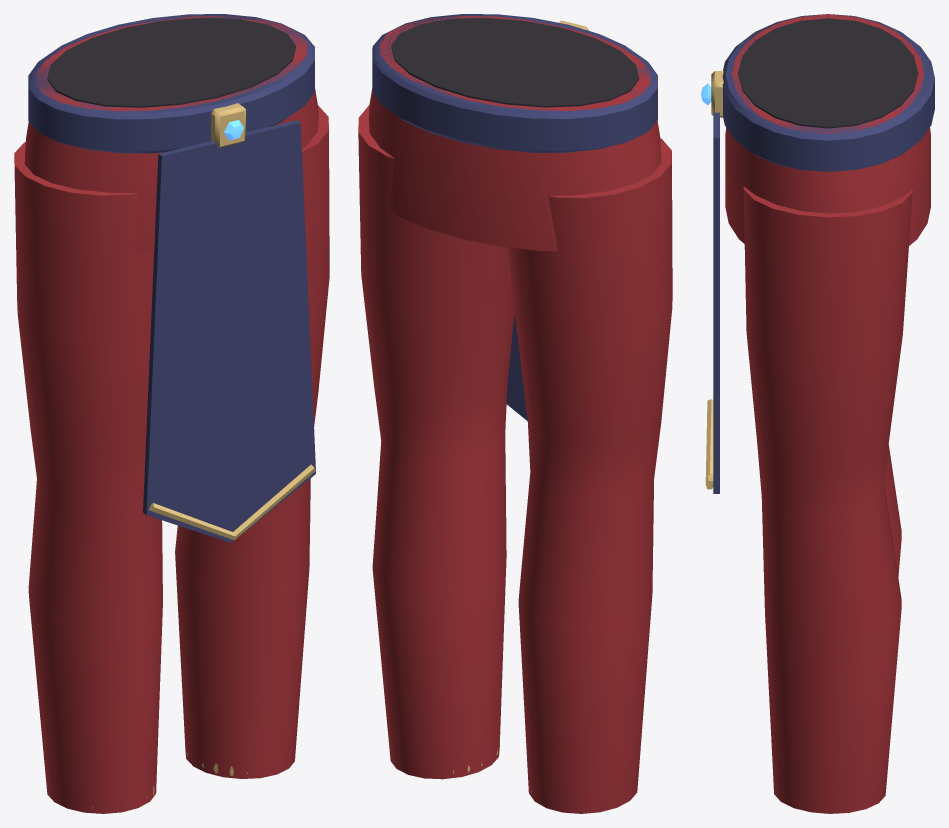
Rendered from magister_silks.glb.
The picture shows the model from 3 angles, left to right: view 1: azimuth 30°, elevation 25°; view 2: azimuth 150°, elevation 25°; view 3: azimuth 270°, elevation 25°; orthographic projection. The views are drawn at different scales.
Visible parts, largest first — view 1: magister_silks; view 2: magister_silks; view 3: magister_silks.
Boxes of the visible parts, left/top/right/bottom form: magister_silks: left=14, top=14, right=329, bottom=813; magister_silks: left=358, top=14, right=672, bottom=813; magister_silks: left=701, top=14, right=934, bottom=813.
Bounding box in the file's own units: 0.3037 × 0.7069 × 0.2182.
